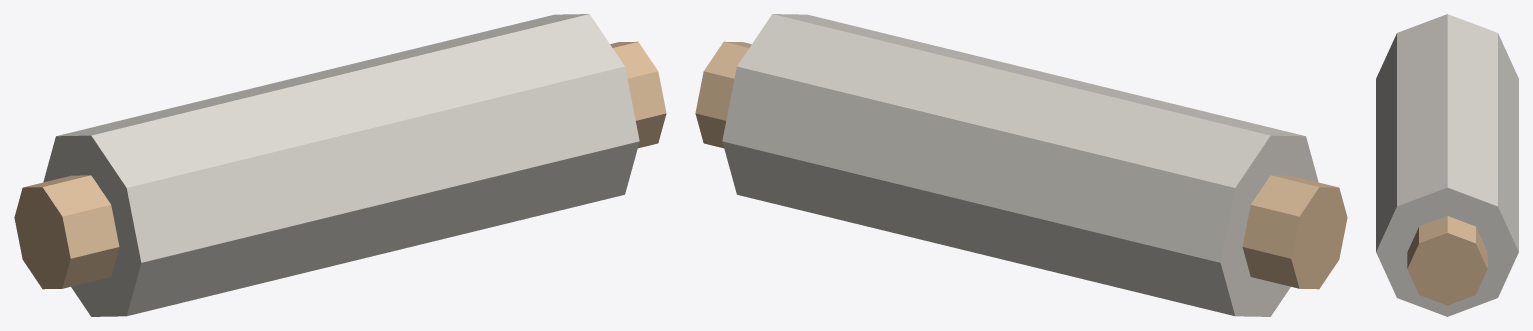
The model's file is scroll.glb.
The picture shows the model from 3 angles, left to right: view 1: azimuth 30°, elevation 25°; view 2: azimuth 150°, elevation 25°; view 3: azimuth 270°, elevation 25°; orthographic projection. The views are drawn at different scales.
Visible parts, largest first — view 1: root_m0, root_m2, root_m1; view 2: root_m0, root_m2, root_m1; view 3: root_m0, root_m1.
Part boxes in pixels (x1,y1,x2,y2): root_m0: (43, 14, 639, 316); root_m2: (14, 175, 119, 289); root_m1: (610, 41, 666, 148); root_m0: (722, 14, 1318, 316); root_m2: (1242, 175, 1347, 289); root_m1: (695, 41, 751, 148); root_m0: (1376, 14, 1518, 316); root_m1: (1407, 216, 1487, 305).
Bounding box in the file's own units: 0.55 × 0.16 × 0.16.
